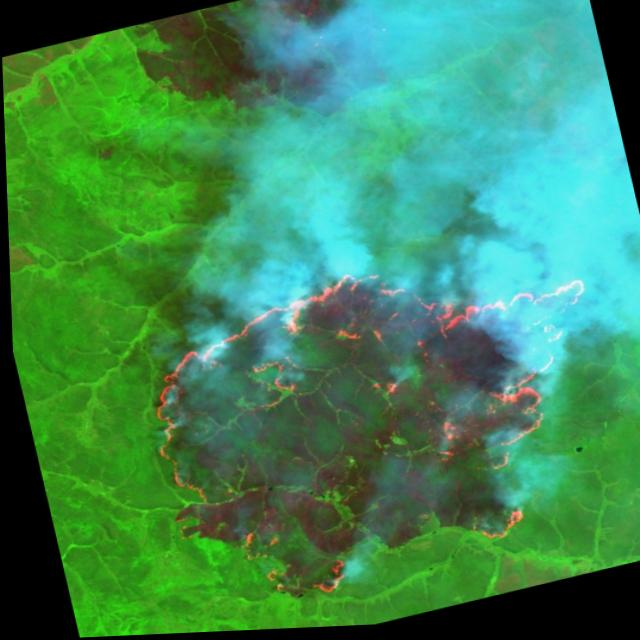fire: (103, 207, 640, 637)
